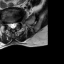CCS_normal: (11, 19, 14, 32)
LFS_stenosis: (16, 18, 19, 26)
LLS_normal: (14, 20, 16, 29)
RFS_severe_stenosis: (5, 20, 8, 28)
RLS_normal: (8, 19, 11, 30)
